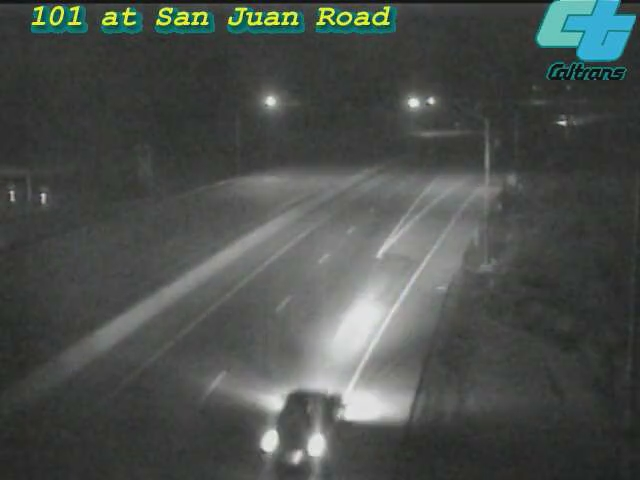vehicle: (250, 361, 360, 471), (541, 96, 591, 146)
